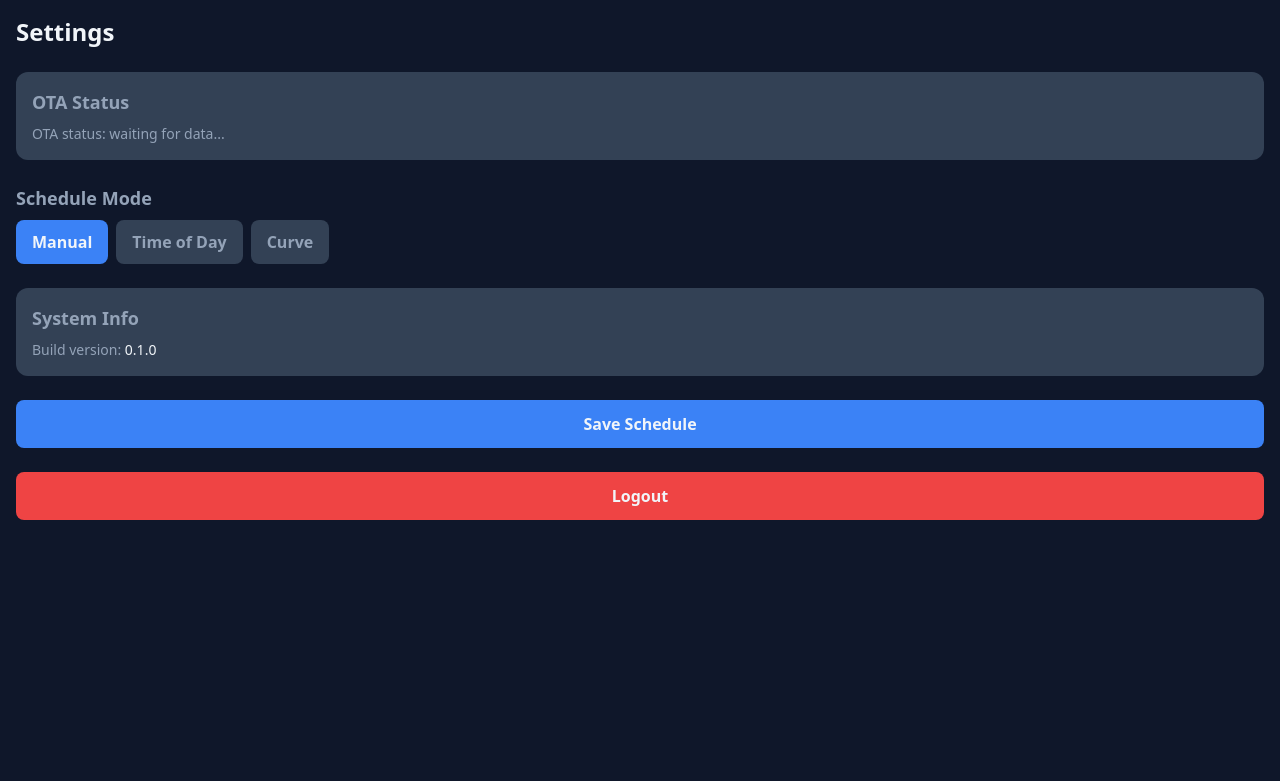
Test: SettingsScreen › remove button removes a window row
Click the button with test id "mode-time_of_day". click: {"x": 179, "y": 242}
box: [116,220,243,264]
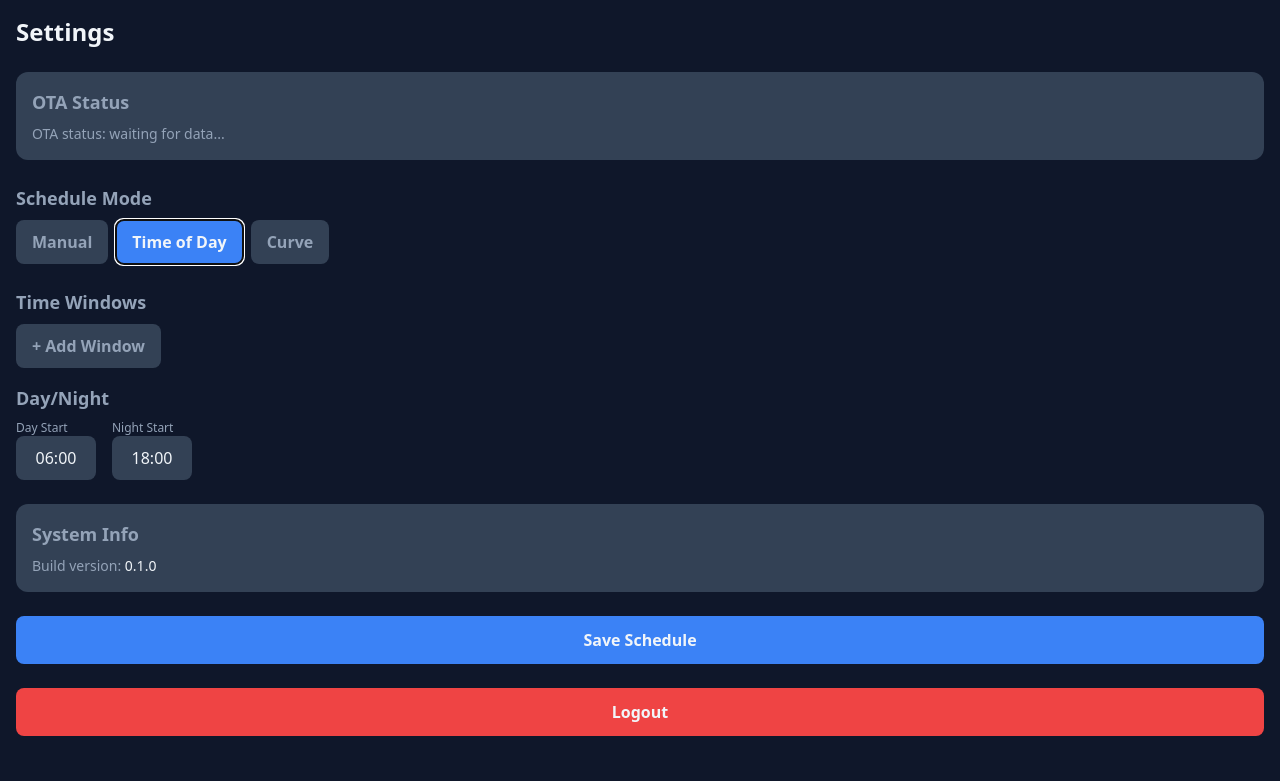
Note: Add a window
Click the button with test id "add-window-btn". click: {"x": 88, "y": 346}
box: [16,324,161,368]
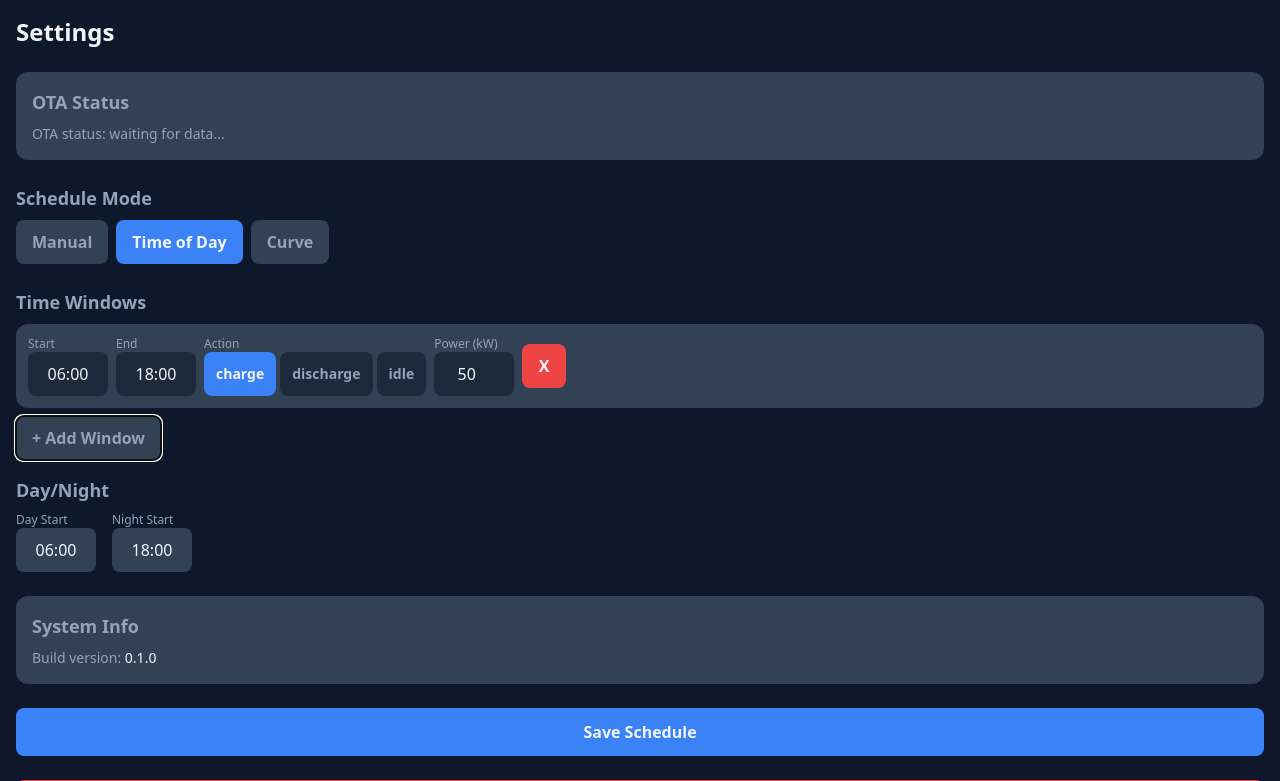
Now the element with test id "window-row-0" is shown, box [16,324,1264,408]
Note: Remove it
Click the button with test id "remove-window-0". click: {"x": 544, "y": 366}
box: [522,344,566,388]
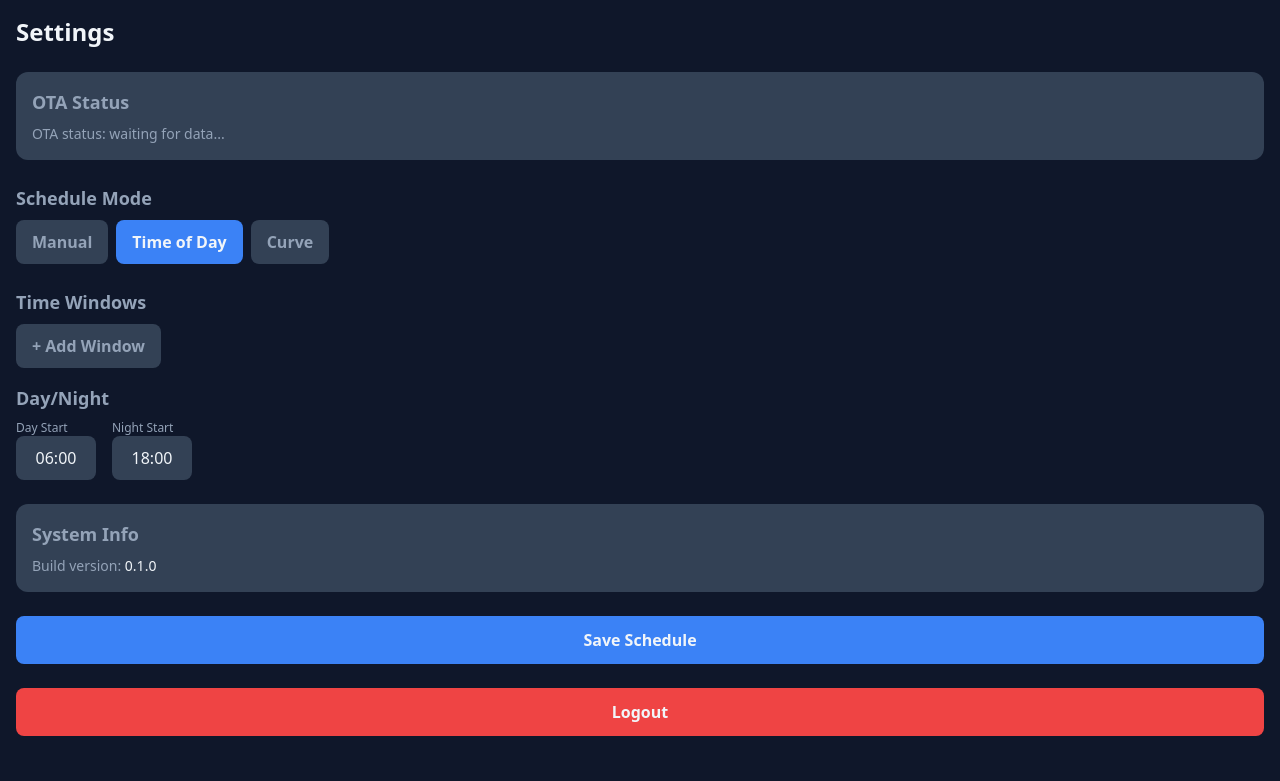
Now the element with test id "window-row-0" is gone
